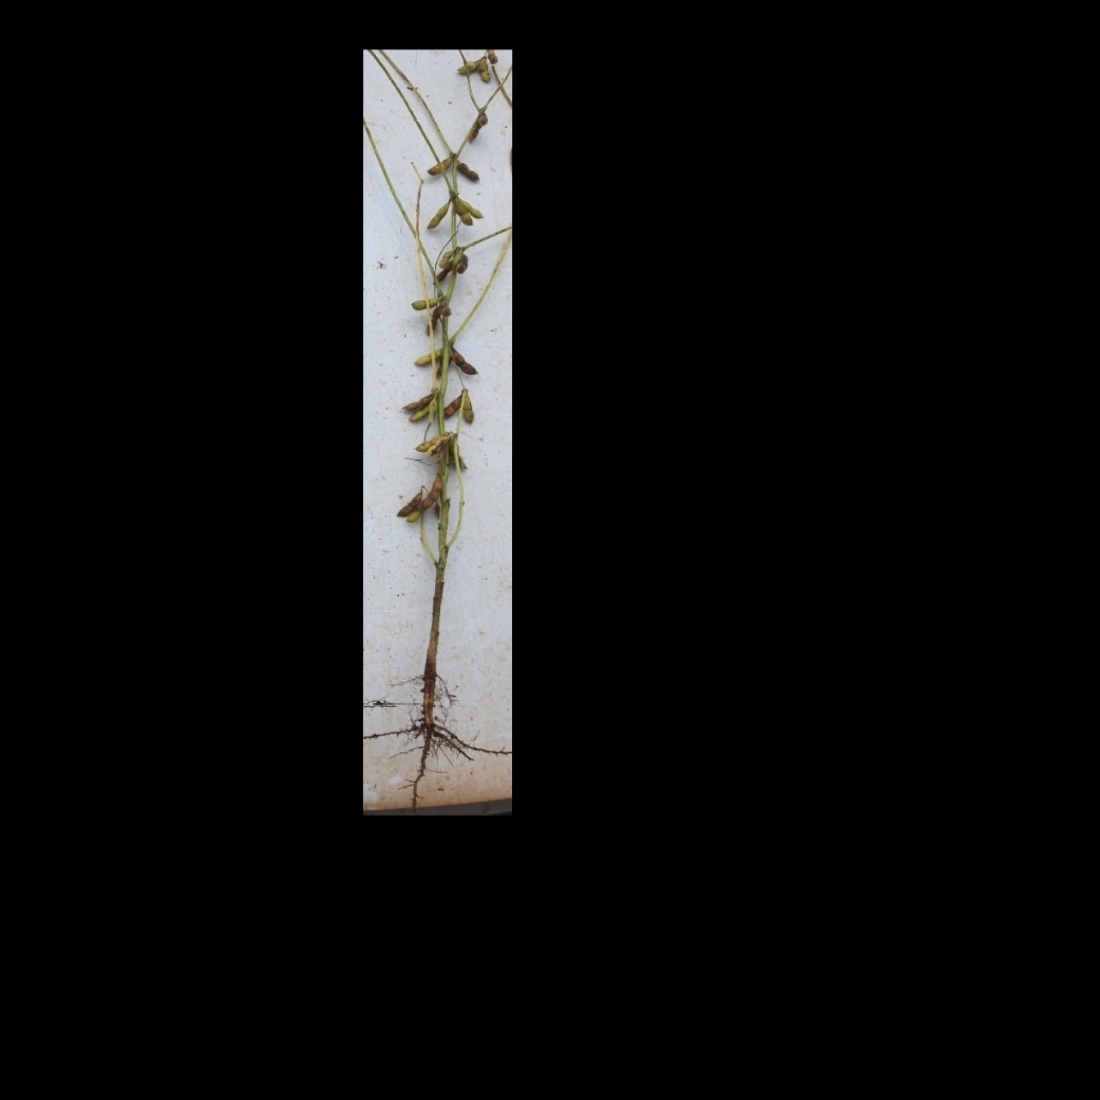pod: (450, 348, 480, 377), (422, 469, 443, 511), (424, 201, 450, 233), (422, 155, 455, 177), (412, 345, 443, 368), (454, 160, 482, 183), (442, 392, 465, 419), (407, 293, 439, 312), (462, 392, 477, 424), (477, 59, 493, 85)
soy: (375, 50, 508, 764)
